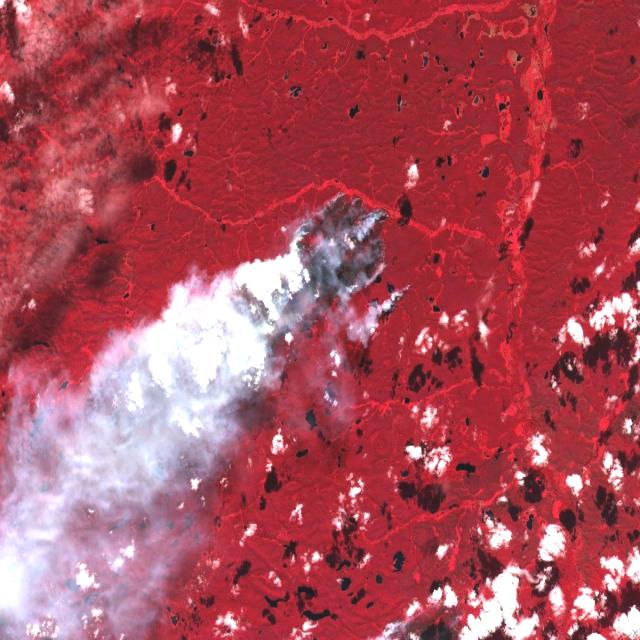fire: (273, 186, 410, 333), (381, 595, 472, 640)
